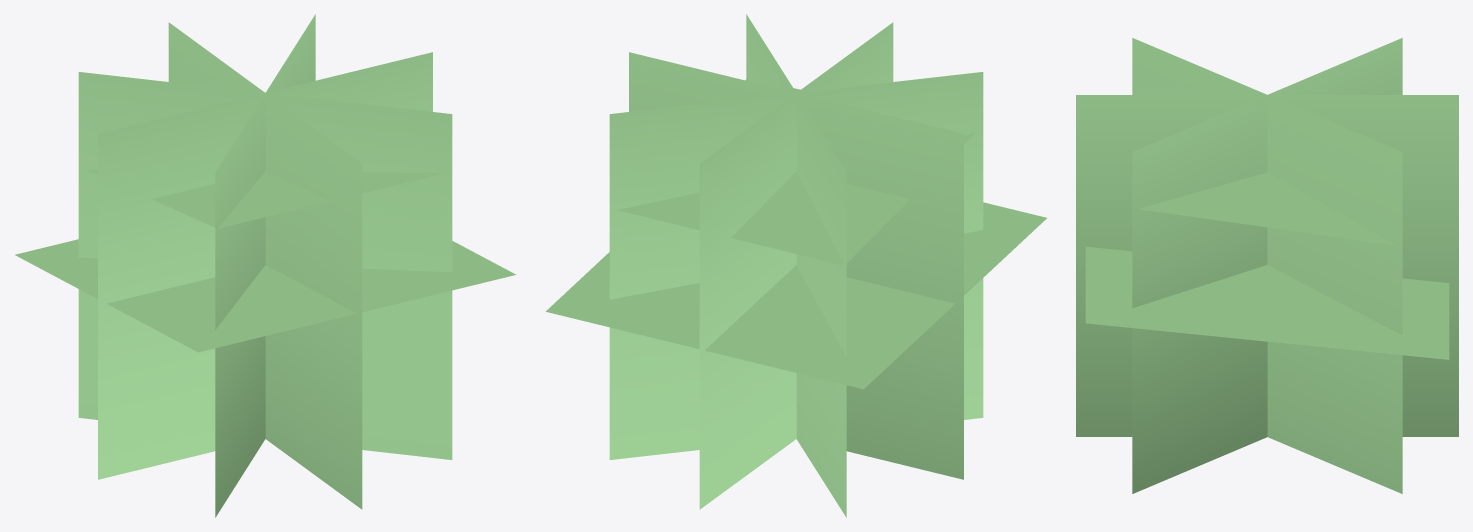
File: octahedral_impostor.glb
3 views of the same model, side by side, from view 1: azimuth 30°, elevation 25°; view 2: azimuth 150°, elevation 25°; view 3: azimuth 270°, elevation 25° (orthographic).
Parts seen in each view (by area): view 1: RootNode; view 2: RootNode; view 3: RootNode.
Boxes of the visible parts, box(x1,y1,x2,y2) form: RootNode: box(15, 14, 516, 517); RootNode: box(546, 14, 1046, 517); RootNode: box(1076, 38, 1458, 493).
Size of the model in its own units: 0.76 by 0.75 by 0.76.
